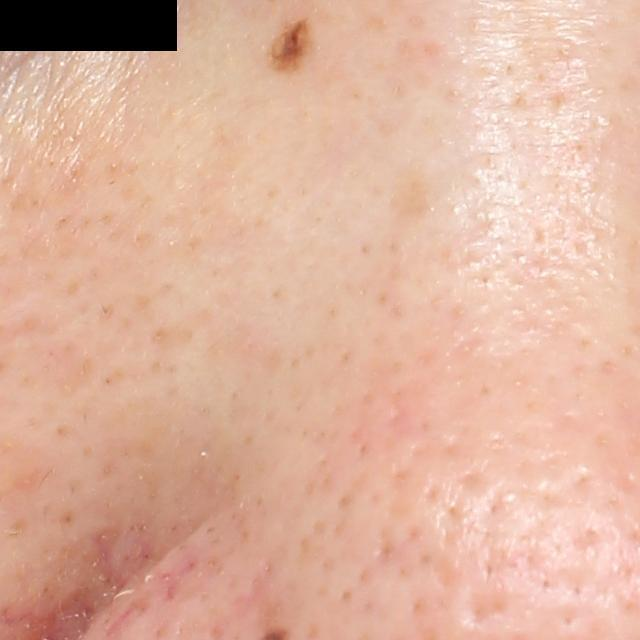atrophic_scar: (452, 586, 516, 629)
nevus: (266, 15, 317, 74)
